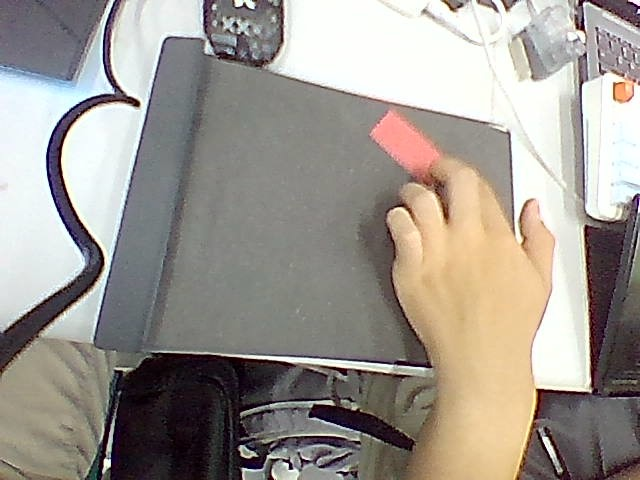card: (370, 110, 441, 179)
